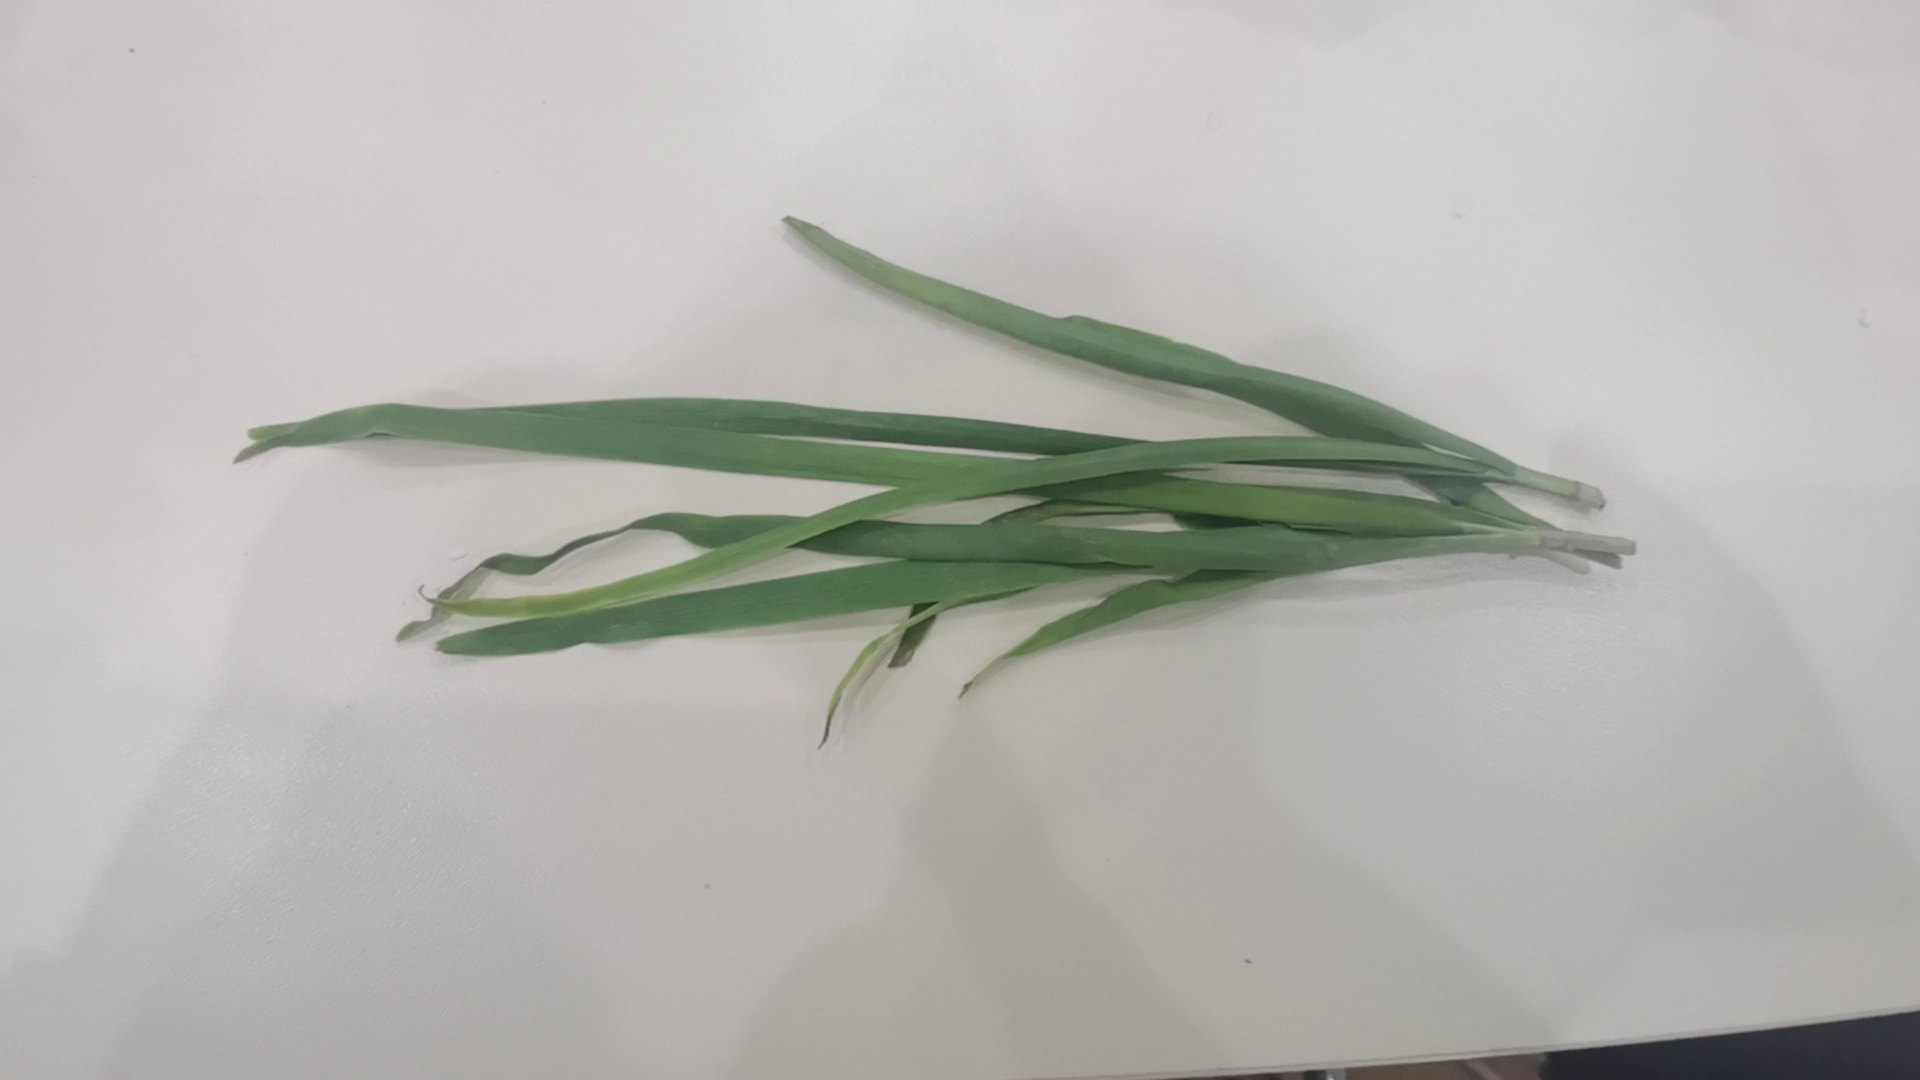chives: (177, 185, 1640, 754)
